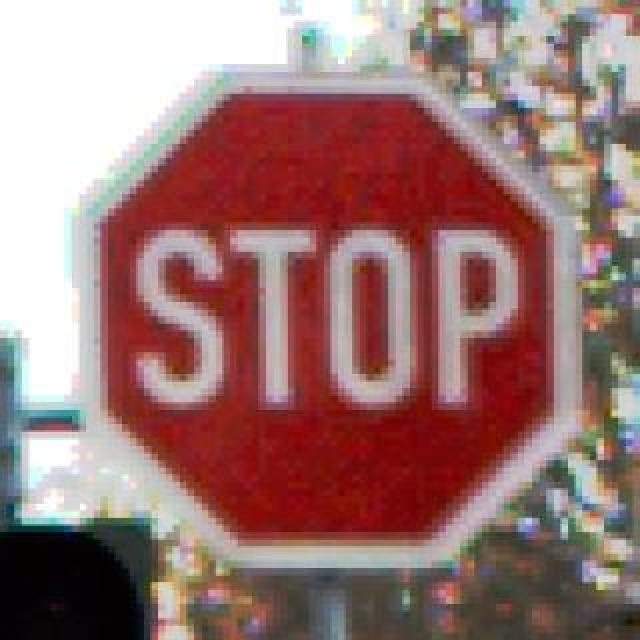stop: (72, 58, 568, 576)
